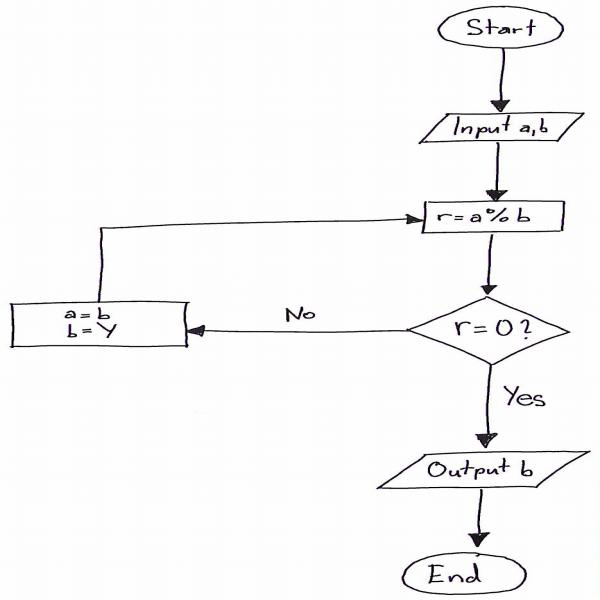arrow: (67, 207, 427, 286), (184, 316, 400, 344), (467, 232, 507, 298), (472, 366, 501, 449), (480, 143, 520, 201), (486, 47, 517, 119), (465, 489, 494, 547)
data: (379, 449, 594, 489), (419, 112, 581, 144)
decision: (401, 297, 573, 365)
process: (11, 302, 191, 346)
terminator: (430, 4, 561, 51), (399, 550, 530, 595)
text: (48, 303, 136, 345), (419, 458, 542, 480), (446, 317, 539, 344), (433, 208, 547, 228), (451, 118, 553, 140), (464, 16, 542, 41), (425, 558, 486, 588), (279, 304, 319, 338), (506, 383, 550, 410)
